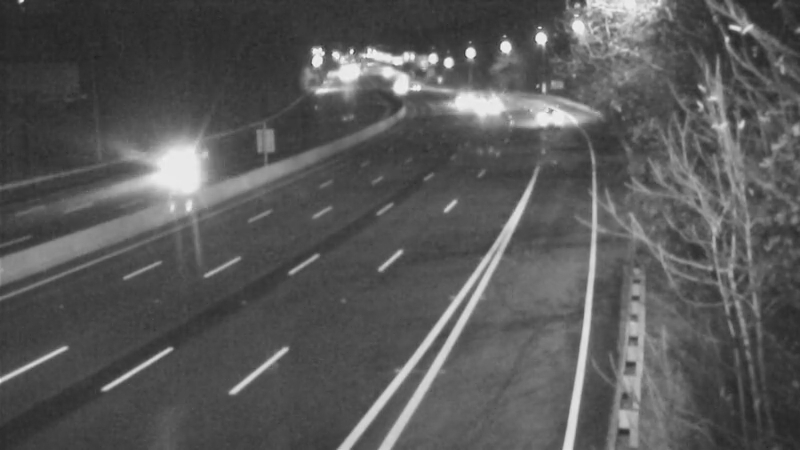vehicle: (141, 126, 221, 206), (393, 66, 443, 116), (372, 62, 422, 112), (436, 79, 486, 129), (456, 79, 506, 129), (522, 91, 572, 141)
